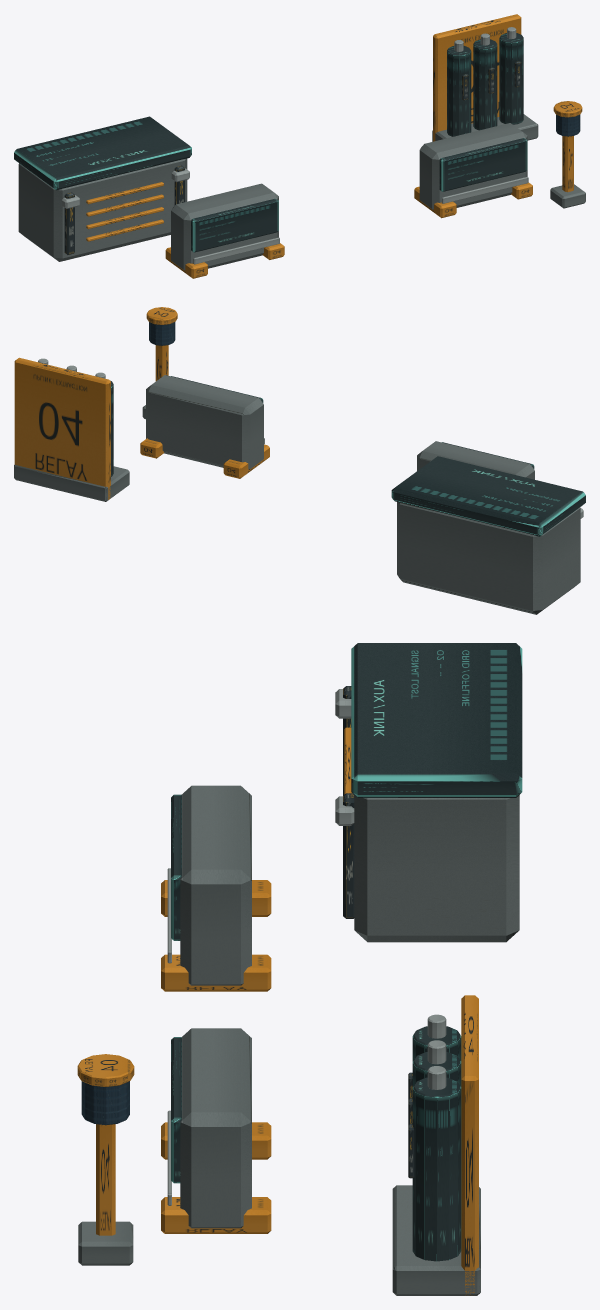
Rendered from CoverCheckpoint_LOD1.obj.
The picture shows the model from 3 angles, top to bottom: view 1: azimuth 30°, elevation 25°; view 2: azimuth 150°, elevation 25°; view 3: azimuth 270°, elevation 25°; orthographic projection. The views are drawn at different scales.
Parts seen in each view (by area): view 1: 002_cargo_container.001, 003_oxygen_rack.001, 001_barricade_2m.001, 000_barricade_2m.001, 004_warning_beacon.001; view 2: 002_cargo_container.001, 003_oxygen_rack.001, 001_barricade_2m.001, 000_barricade_2m.001, 004_warning_beacon.001; view 3: 002_cargo_container.001, 003_oxygen_rack.001, 000_barricade_2m.001, 001_barricade_2m.001, 004_warning_beacon.001.
Part boxes in pixels (x1=…): 002_cargo_container.001: x1=14, y1=116, x2=191, y2=261; 003_oxygen_rack.001: x1=432, y1=14, x2=538, y2=141; 001_barricade_2m.001: x1=414, y1=123, x2=532, y2=218; 000_barricade_2m.001: x1=165, y1=183, x2=284, y2=278; 004_warning_beacon.001: x1=550, y1=101, x2=585, y2=208; 002_cargo_container.001: x1=391, y1=456, x2=585, y2=614; 003_oxygen_rack.001: x1=14, y1=357, x2=129, y2=501; 001_barricade_2m.001: x1=140, y1=375, x2=269, y2=478; 000_barricade_2m.001: x1=417, y1=441, x2=534, y2=479; 004_warning_beacon.001: x1=142, y1=307, x2=177, y2=419; 002_cargo_container.001: x1=335, y1=643, x2=522, y2=942; 003_oxygen_rack.001: x1=392, y1=995, x2=480, y2=1295; 000_barricade_2m.001: x1=161, y1=785, x2=271, y2=991; 001_barricade_2m.001: x1=161, y1=1028, x2=271, y2=1233; 004_warning_beacon.001: x1=77, y1=1054, x2=134, y2=1265.
Bounding box in the file's own units: 10.35 × 2.2 × 4.03.
1 material, 1 textured.
